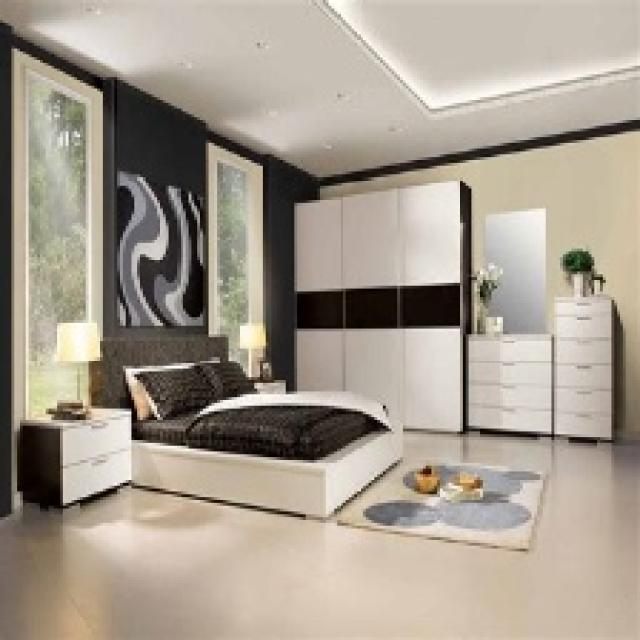Bed: (88, 334, 403, 520)
drawers: (474, 336, 548, 434), (560, 303, 610, 437)
